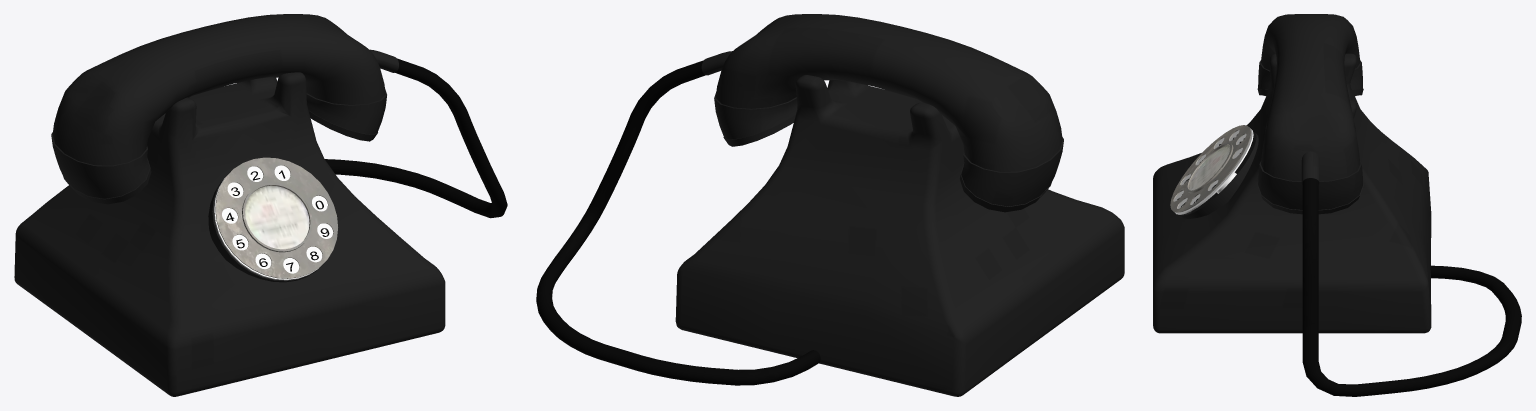
The model's file is phone.glb.
3 renders of one model, left to right at view 1: azimuth 30°, elevation 25°; view 2: azimuth 150°, elevation 25°; view 3: azimuth 270°, elevation 25°, orthographic. The views are drawn at different scales.
Parts seen in each view (by area): view 1: Object_4, Object_11, Object_14, Object_12, Object_8; view 2: Object_4, Object_14; view 3: Object_4, Object_14, Object_11, Object_8, Object_12.
Part boxes in pixels (<box>): Object_4: <box>14,14,445,396</box>; Object_11: <box>215,157,337,278</box>; Object_14: <box>325,58,507,218</box>; Object_12: <box>245,185,309,249</box>; Object_8: <box>214,165,333,280</box>; Object_4: <box>675,14,1124,396</box>; Object_14: <box>536,60,820,385</box>; Object_4: <box>1153,14,1431,333</box>; Object_14: <box>1302,178,1521,396</box>; Object_11: <box>1170,125,1251,212</box>; Object_8: <box>1174,127,1253,214</box>; Object_12: <box>1189,145,1230,190</box>.
Size of the model in its own units: 3.7 by 2.13 by 3.04.
Materials: 6 (5 with a texture image).
